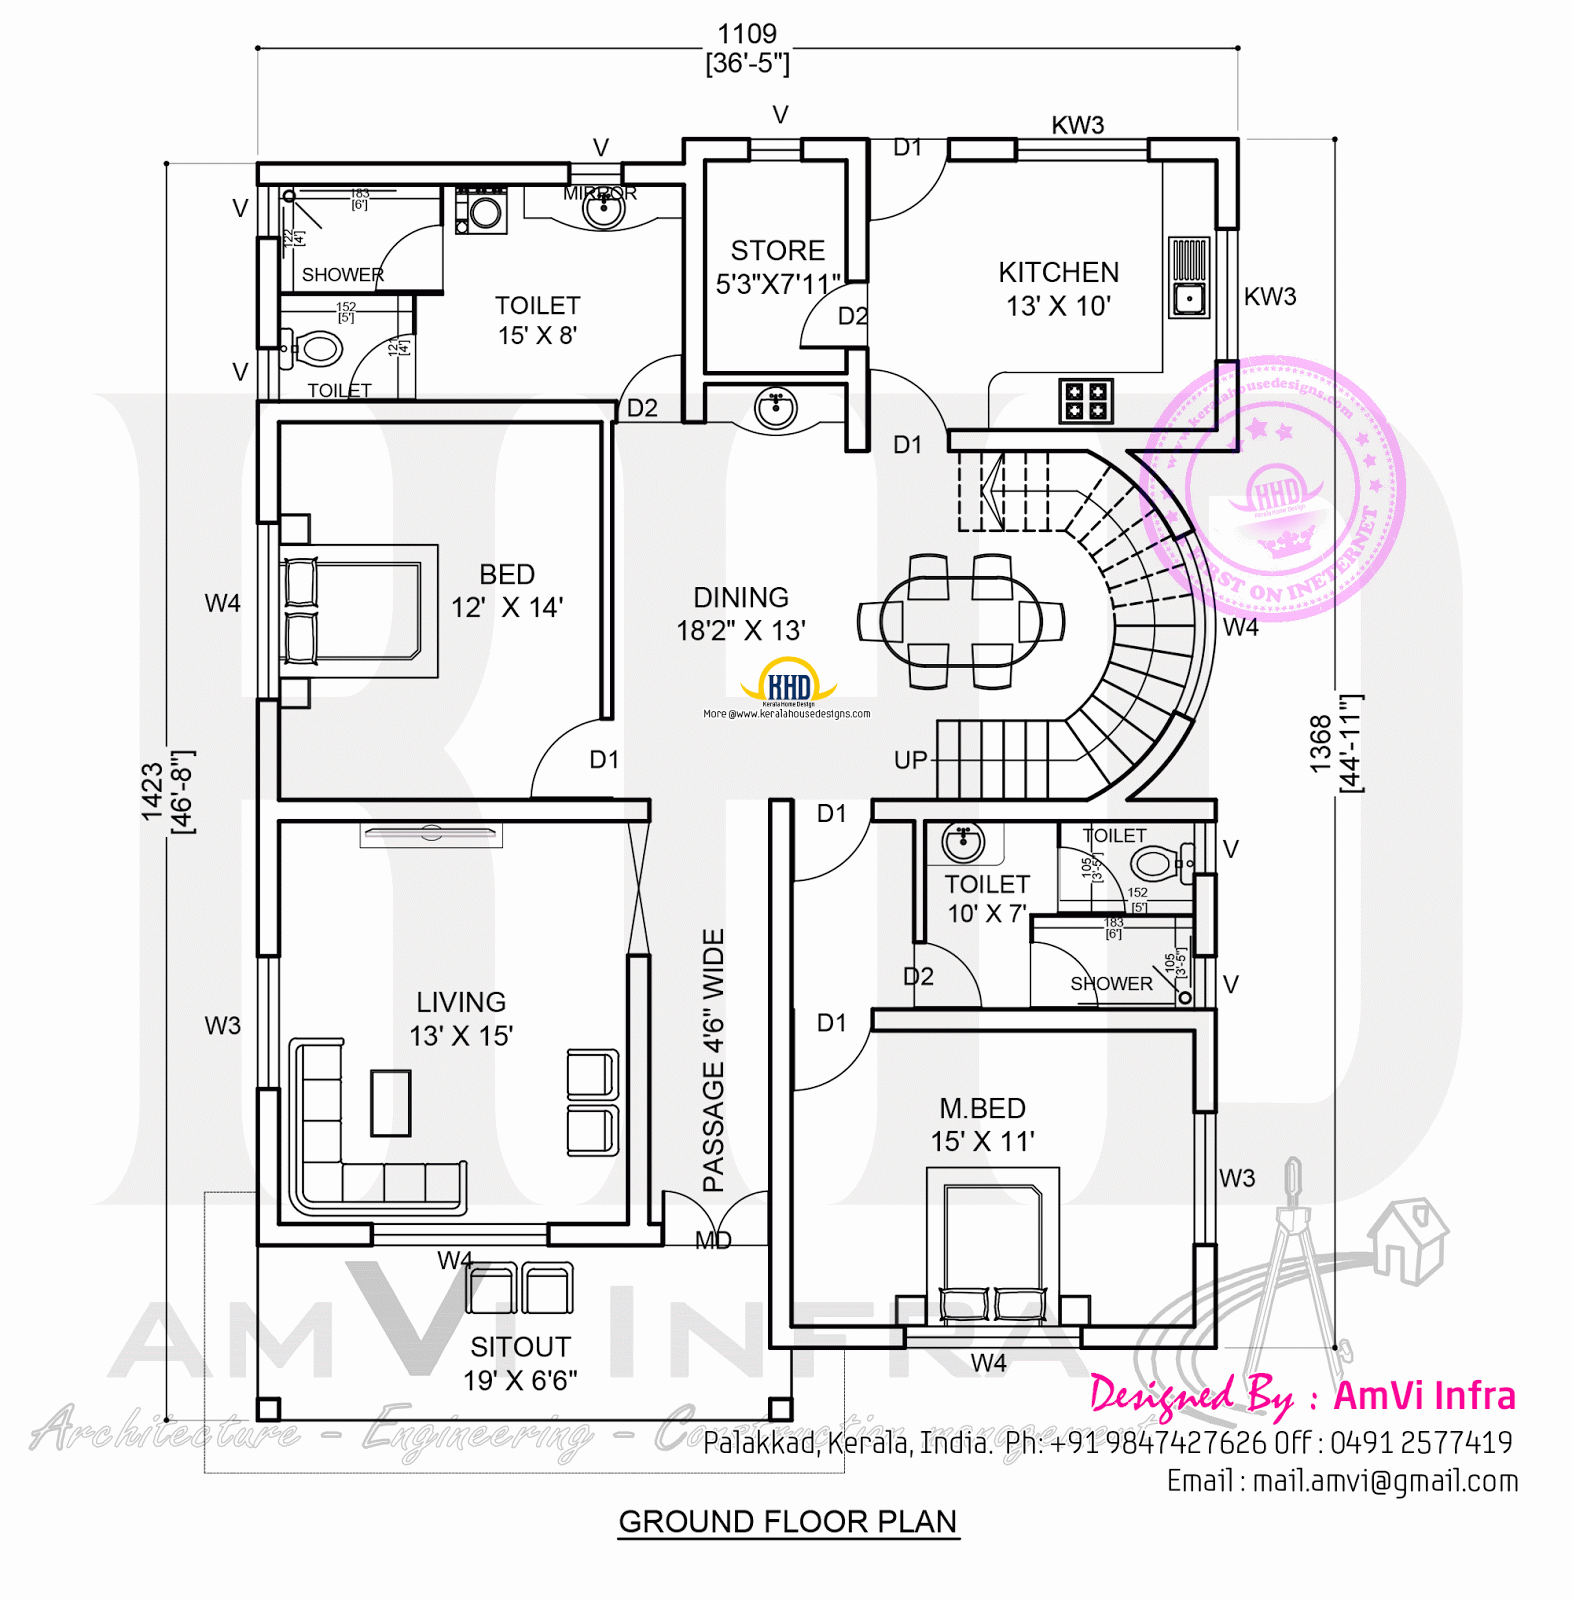window: (250, 520, 284, 701), (370, 1218, 551, 1249), (903, 1322, 1083, 1352), (1211, 226, 1244, 364), (250, 953, 284, 1092), (1011, 135, 1155, 166), (1191, 1109, 1218, 1247), (250, 346, 282, 405), (1191, 953, 1219, 1011), (566, 160, 626, 187), (1191, 819, 1219, 876), (253, 183, 281, 241), (746, 135, 806, 161)
